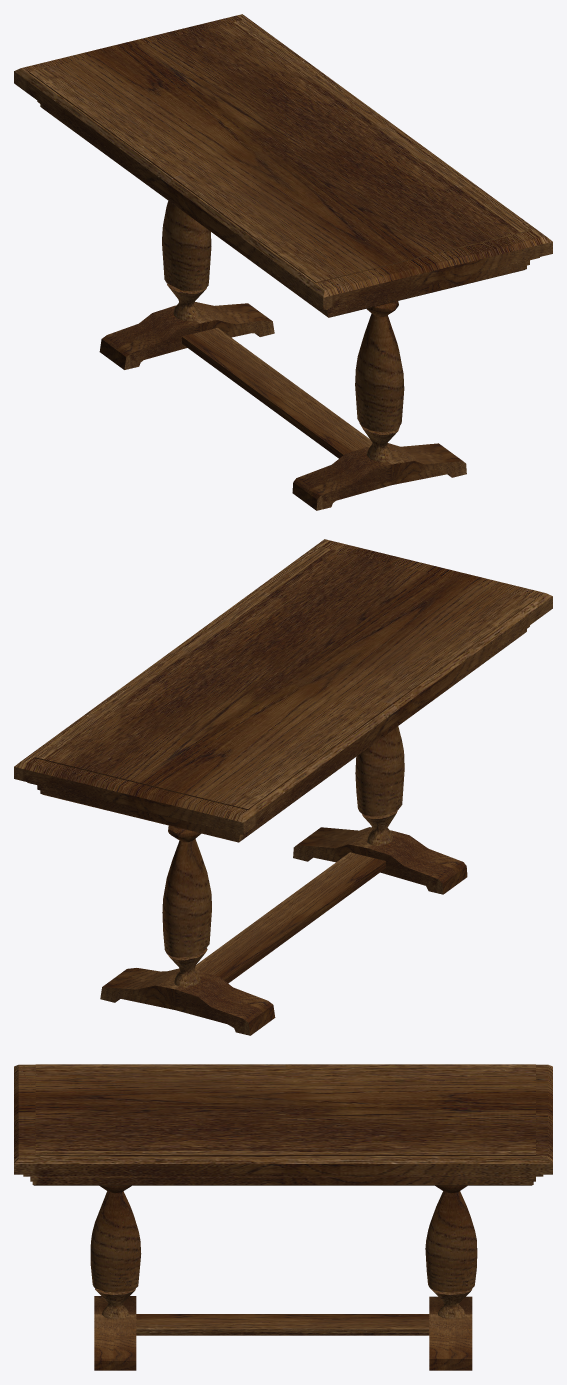
The model's file is Table 1.FBX.
3 renders of one model, top to bottom at view 1: azimuth 30°, elevation 25°; view 2: azimuth 150°, elevation 25°; view 3: azimuth 270°, elevation 25°, orthographic. The views are drawn at different scales.
Parts seen in each view (by area): view 1: table; view 2: table; view 3: table.
Part boxes in pixels (x1,y1,x2,y2): table: (14, 14, 552, 510); table: (14, 539, 552, 1035); table: (14, 1064, 552, 1370).
Bounding box in the file's own units: 83.61 × 91.08 × 195.
1 material, 1 textured.
